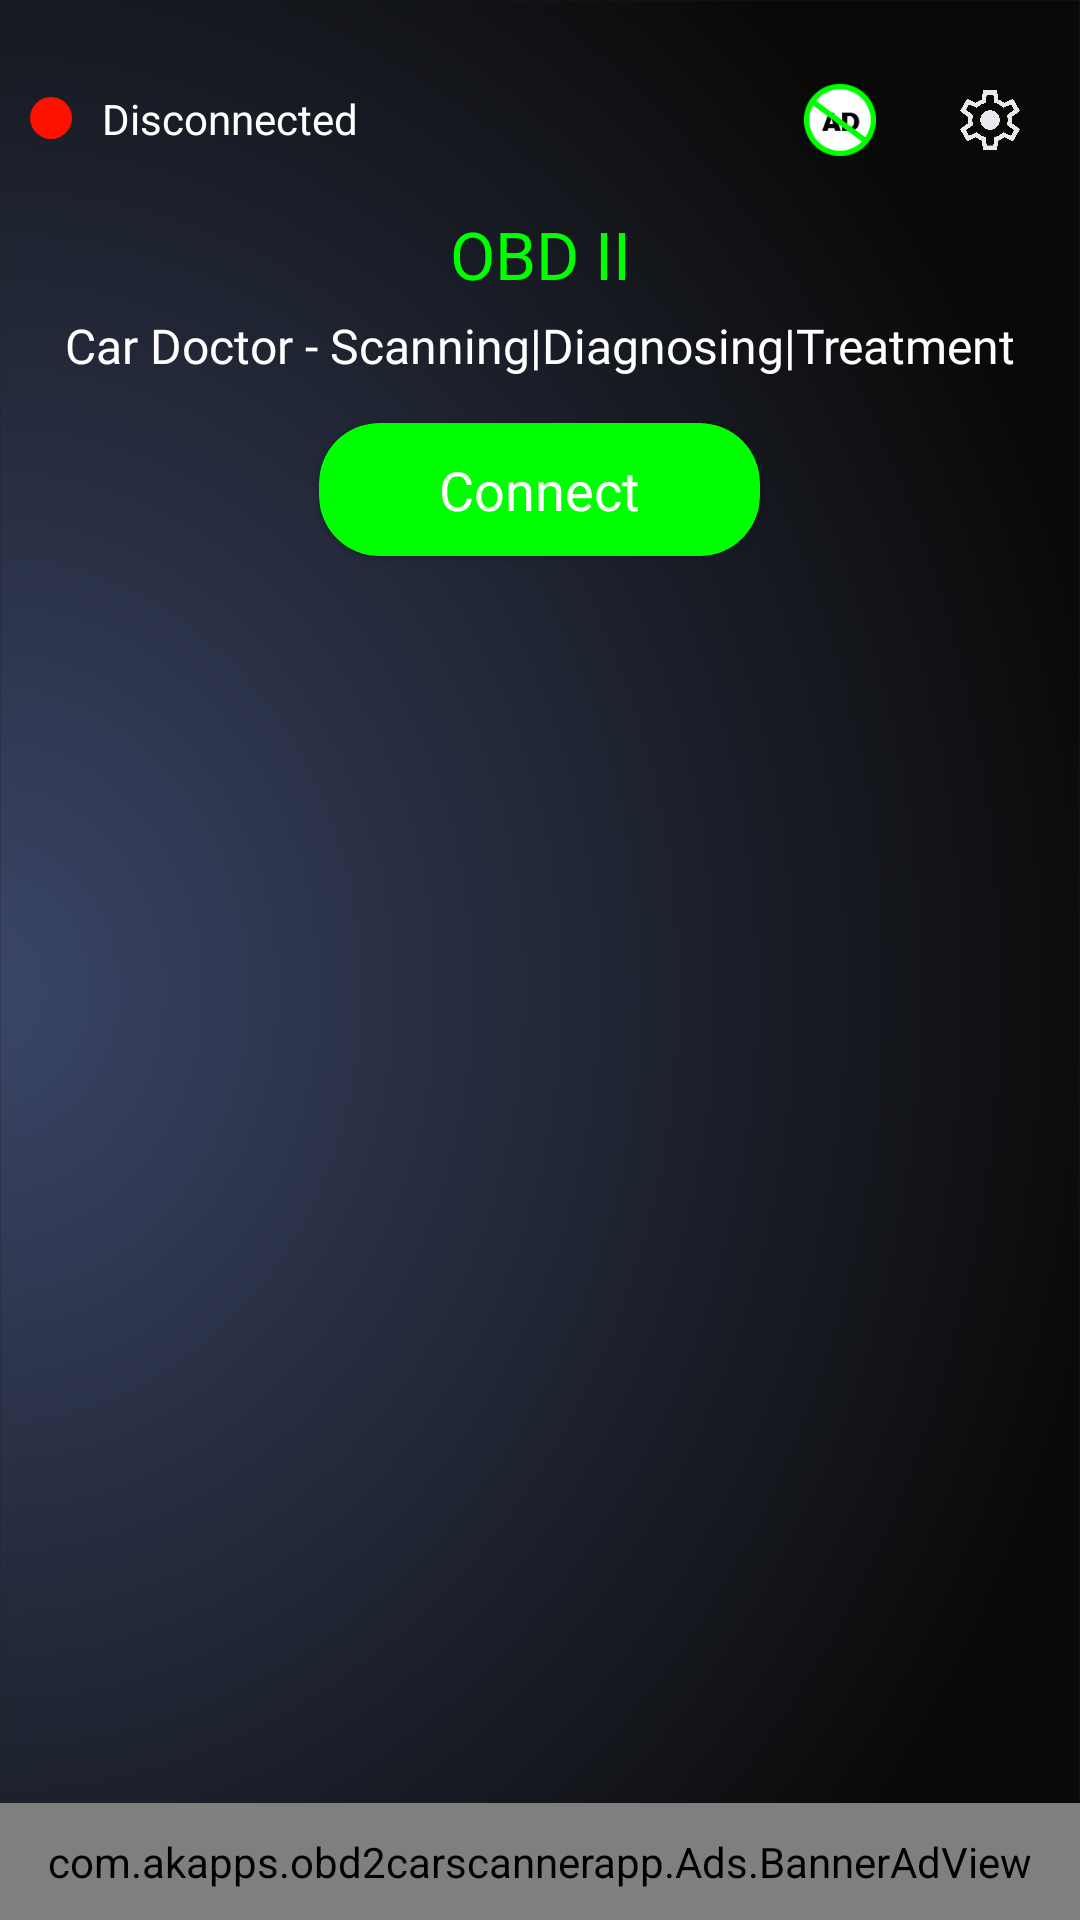

Locate icon controls on the screen. Image size 1080 x 1920, boxes as (x1, y1, x2, y2).
pro: (804, 84, 876, 156)
setting: (960, 90, 1020, 150)
